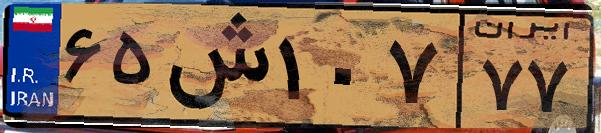0: (330, 28, 385, 110)
1: (270, 28, 330, 110)
5: (110, 28, 158, 98)
6: (57, 26, 110, 100)
7: (385, 28, 445, 110), (475, 38, 525, 113), (525, 38, 570, 115)
ش: (158, 12, 270, 120)
